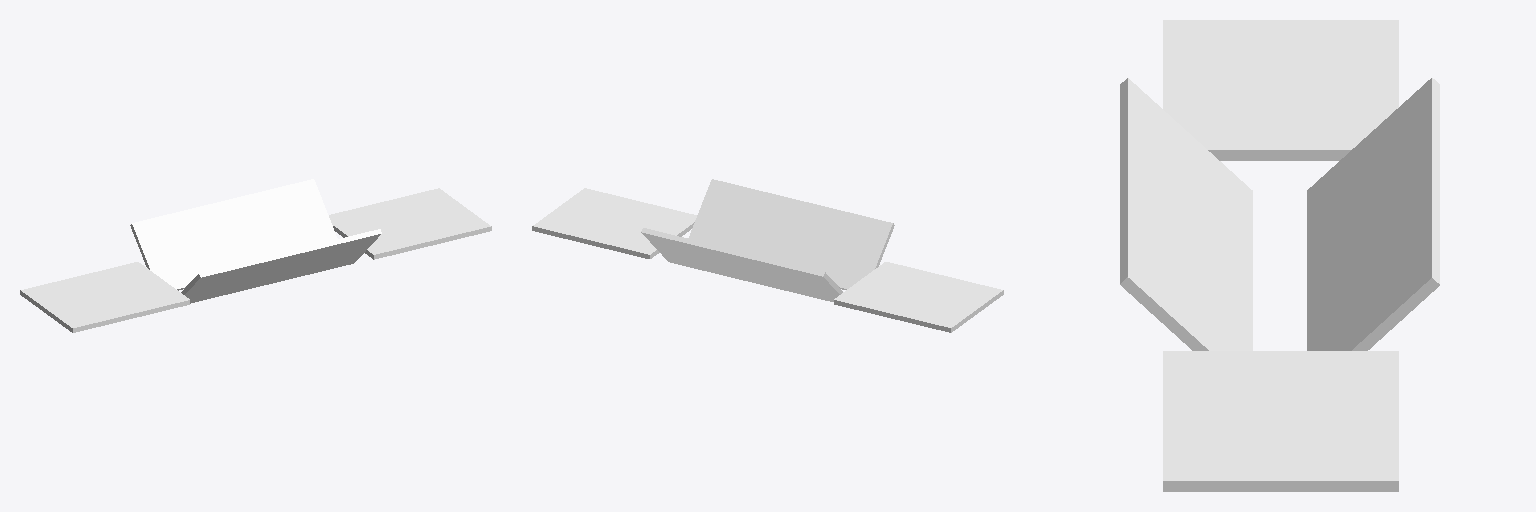
The robot description file, URDF, robot "stair_bauzil":
<robot name="stair_bauzil">
  <link name="base_link">
    <visual>
      <origin xyz="0 0 0" rpy="0 0 0" />
      <geometry>
        <mesh filename="package://hpp-rbprm-corba/meshes/sideWall.stl"/>
      </geometry>
      <material name="white">
        <color rgba="1 1 1 1"/>
      </material>
    </visual>
    <collision>
      <origin xyz="0 0 0" rpy="0 0 0" />
      <geometry>
        <mesh filename="package://hpp-rbprm-corba/meshes/sideWall.stl"/>
      </geometry>
    </collision>
  </link>
</robot>

--- What the picture shows (computed from the rendered views, not written in the file) ---
The picture shows the robot from 3 angles, left to right: view 1: azimuth 30°, elevation 25°; view 2: azimuth 150°, elevation 25°; view 3: azimuth 270°, elevation 25°; orthographic projection.
Model stair_bauzil with 1 links and 0 joints (none), rooted at base_link, posed all joints at 0.
Links seen in each view (by area): view 1: base_link; view 2: base_link; view 3: base_link.
Link boxes in pixels (bbox=[...]): base_link: bbox=[20, 179, 491, 332]; base_link: bbox=[532, 179, 1003, 332]; base_link: bbox=[1120, 20, 1439, 491].
Bounding box of the posed robot: 9.25 × 2.73 × 1.14 m (x, y, z).
1 mesh visuals loaded from 1 distinct referenced files (1 binary STL).